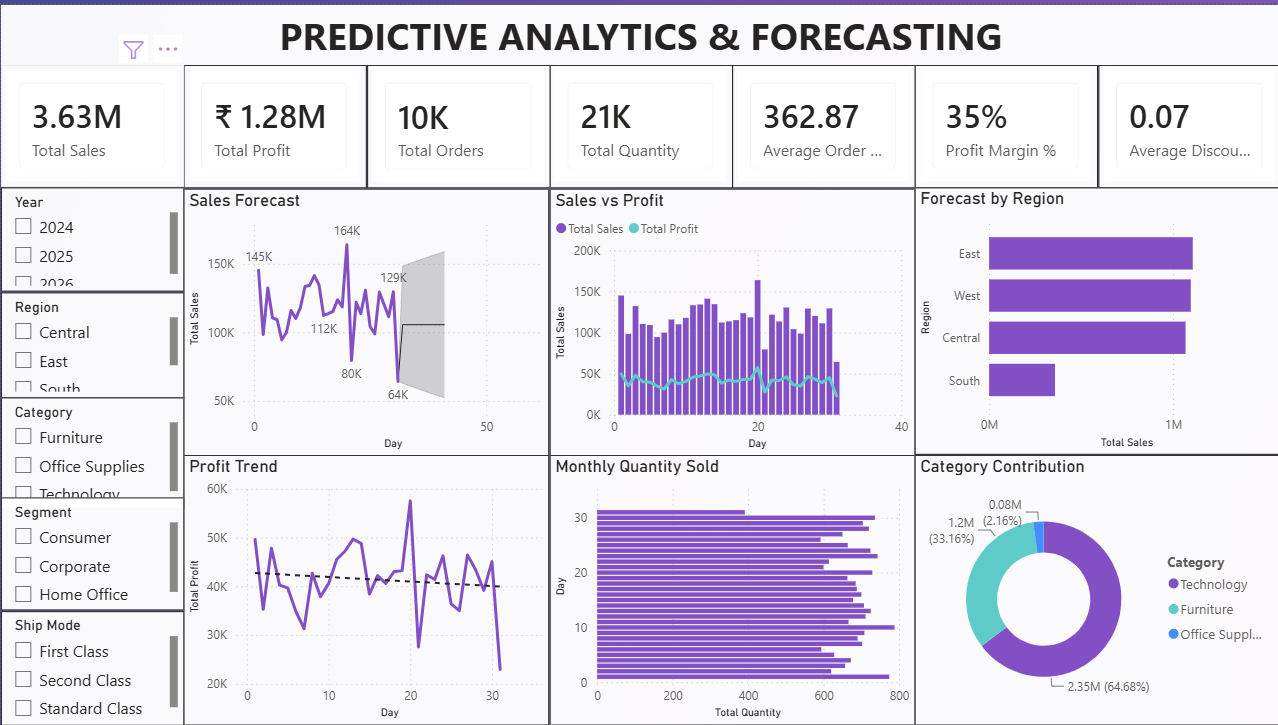

The dashboard page shown, as its layout file describes it:
{"tool":"powerbi","page":{"name":"PREDICTIVE ANALYTICS & FORECASTING","canvas":[1280,720],"ordinal":2},"visuals":[{"type":"textbox","box":[0,0,1280,60],"z":0},{"type":"cardVisual","fields":{"Data":["Calendar.Profit Margin %"]},"box":[914.3,60,182.9,122.9],"z":1000},{"type":"cardVisual","fields":{"Data":["Data.Average Order Value"]},"box":[731.4,60,182.9,122.9],"z":2000},{"type":"cardVisual","fields":{"Data":["Calendar.Total Quantity"]},"box":[548.6,60,182.9,122.9],"z":3000},{"type":"cardVisual","fields":{"Data":["Data.Total Orders"]},"box":[365.6,59.9,183.4,123.5],"z":4000},{"type":"cardVisual","fields":{"Data":["Data.Total Profit"]},"box":[182.9,60,182.9,122.9],"z":5000},{"type":"cardVisual","fields":{"Data":["Data.Total Sales"]},"box":[0,60,182.9,122.9],"z":6000},{"type":"lineChart","title":"Sales Forecast","fields":{"Y":["Data.Total Sales"],"Category":["Data.Order Date.Variation.Date Hierarchy.Day"]},"box":[182.9,184.3,365.7,267.1],"z":7000},{"type":"lineChart","title":"Profit Trend","fields":{"Category":["Data.Order Date.Variation.Date Hierarchy.Day"],"Y":["Data.Total Profit"]},"box":[182.9,450,365.7,270],"z":8000},{"type":"lineClusteredColumnComboChart","title":"Sales vs Profit","fields":{"Y2":["Data.Total Profit"],"Y":["Data.Total Sales"],"Category":["Data.Order Date.Variation.Date Hierarchy.Day"]},"box":[548.6,184.3,365.7,267.1],"z":9000},{"type":"clusteredBarChart","title":"Monthly Quantity Sold","fields":{"Category":["Data.Order Date.Variation.Date Hierarchy.Day"],"Y":["Calendar.Total Quantity"]},"box":[548.6,450,365.7,270],"z":10000},{"type":"cardVisual","fields":{"Data":["Data.Average Discount"]},"box":[1097.1,60,182.9,122.9],"z":11000},{"type":"clusteredBarChart","title":"Forecast by Region","fields":{"Category":["Data.Region"],"Y":["Data.Total Sales"]},"box":[914.3,182.9,365.7,267.1],"z":12000},{"type":"donutChart","title":"Category Contribution","fields":{"Y":["Data.Total Sales"],"Category":["Data.Category"]},"box":[914.3,450,365.7,270],"z":13000},{"type":"slicer","fields":{"Values":["Calendar.Year"]},"box":[0,182.9,182.9,104.3],"z":14000},{"type":"slicer","fields":{"Values":["Data.Ship Mode"]},"box":[0,605.7,182.9,114.3],"z":15000},{"type":"slicer","fields":{"Values":["Data.Region"]},"box":[0,287.1,182.9,105.7],"z":16000},{"type":"slicer","fields":{"Values":["Data.Category"]},"box":[0,392.9,182.9,111.4],"z":17000},{"type":"slicer","fields":{"Values":["Data.Segment"]},"box":[0,492.9,182.9,112.9],"z":18000}]}

Visuals, with their boxes in screenshot pixels (x1, y1, x2, y2), scaled from the page's 1280x720 canvas onto the 1278x725 screenshot:
textbox: [x1=0, y1=0, x2=1277, y2=60]
cardVisual - Calendar.Profit Margin %: [x1=913, y1=60, x2=1095, y2=184]
cardVisual - Data.Average Order Value: [x1=730, y1=60, x2=913, y2=184]
cardVisual - Calendar.Total Quantity: [x1=548, y1=60, x2=730, y2=184]
cardVisual - Data.Total Orders: [x1=365, y1=60, x2=548, y2=185]
cardVisual - Data.Total Profit: [x1=183, y1=60, x2=365, y2=184]
cardVisual - Data.Total Sales: [x1=0, y1=60, x2=183, y2=184]
"Sales Forecast" lineChart: [x1=183, y1=186, x2=548, y2=455]
"Profit Trend" lineChart: [x1=183, y1=453, x2=548, y2=724]
"Sales vs Profit" lineClusteredColumnComboChart: [x1=548, y1=186, x2=913, y2=455]
"Monthly Quantity Sold" clusteredBarChart: [x1=548, y1=453, x2=913, y2=724]
cardVisual - Data.Average Discount: [x1=1095, y1=60, x2=1277, y2=184]
"Forecast by Region" clusteredBarChart: [x1=913, y1=184, x2=1277, y2=453]
"Category Contribution" donutChart: [x1=913, y1=453, x2=1277, y2=724]
slicer - Calendar.Year: [x1=0, y1=184, x2=183, y2=289]
slicer - Data.Ship Mode: [x1=0, y1=610, x2=183, y2=724]
slicer - Data.Region: [x1=0, y1=289, x2=183, y2=396]
slicer - Data.Category: [x1=0, y1=396, x2=183, y2=508]
slicer - Data.Segment: [x1=0, y1=496, x2=183, y2=610]
